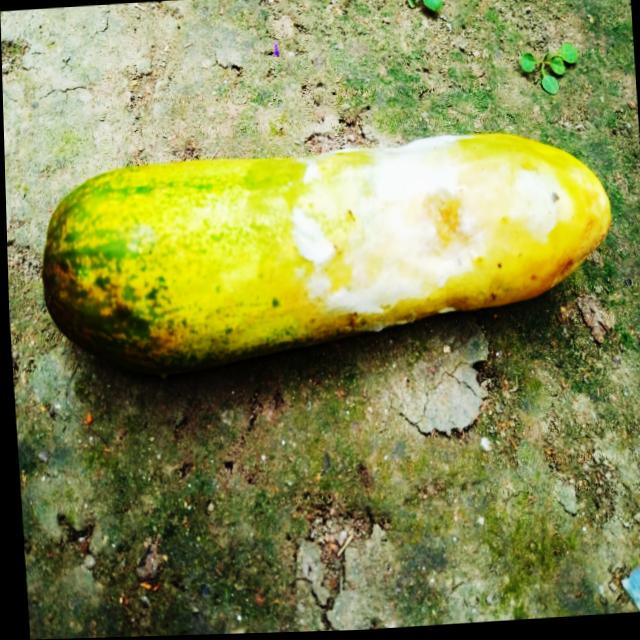Pythium-Fruit-Rot: (282, 129, 561, 341)
